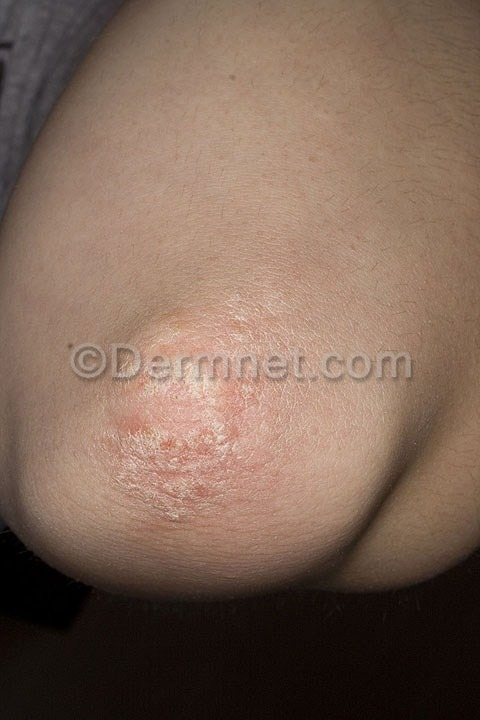Psoriasis: (98, 298, 298, 532)
